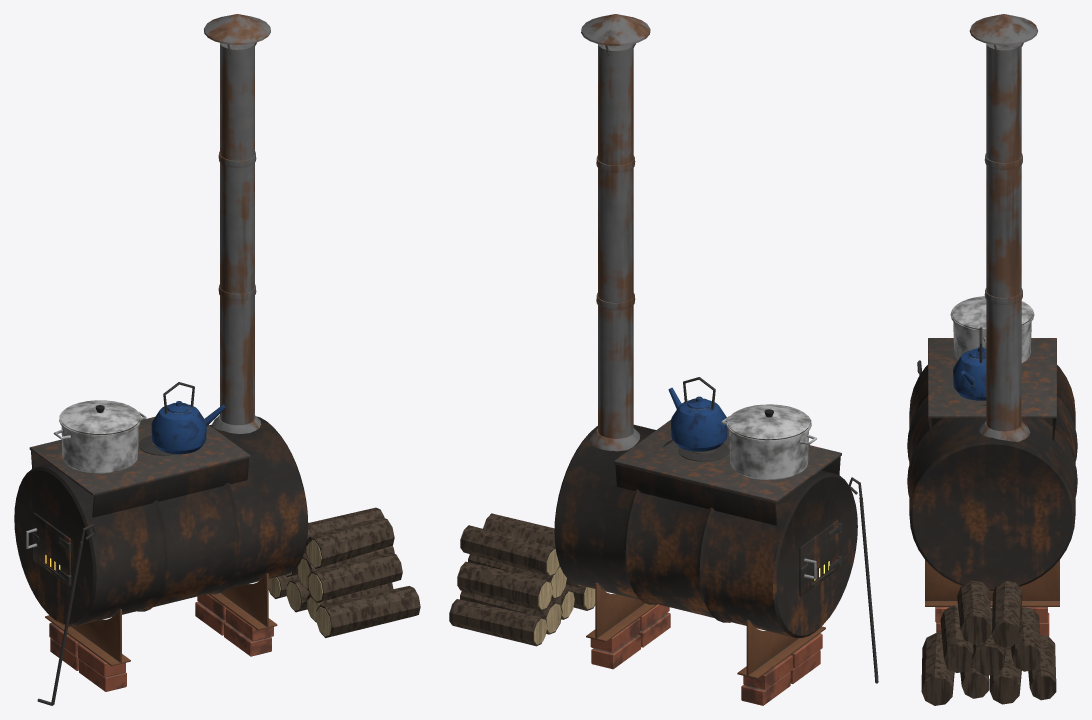
File: fogao_tambor.glb
The picture shows the model from 3 angles, left to right: view 1: azimuth 30°, elevation 25°; view 2: azimuth 150°, elevation 25°; view 3: azimuth 270°, elevation 25°; orthographic projection. The views are drawn at different scales.
Parts seen in each view (by area): view 1: tambor, chamine, lenha, chapa, panelas, porta_fornalha; view 2: tambor, chamine, lenha, chapa, panelas, porta_fornalha; view 3: tambor, chamine, lenha, chapa, panelas.
Part boxes in pixels (x1,y1,x2,y2): tambor: (14,416,308,691); chamine: (204,14,270,433); lenha: (37,507,420,705); chapa: (29,417,250,517); panelas: (53,382,225,473); porta_fornalha: (26,512,71,586); tambor: (554,424,857,705); chamine: (581,14,650,451); lenha: (449,477,878,683); chapa: (614,420,841,525); panelas: (668,377,816,479); porta_fornalha: (799,520,841,596); tambor: (907,365,1077,636); chamine: (969,14,1037,441); lenha: (917,360,1056,705); chapa: (928,338,1056,440); panelas: (950,296,1034,400).
Size of the model in its own units: 1.52 by 2.4 by 0.596.
4 materials, 3 textured.
